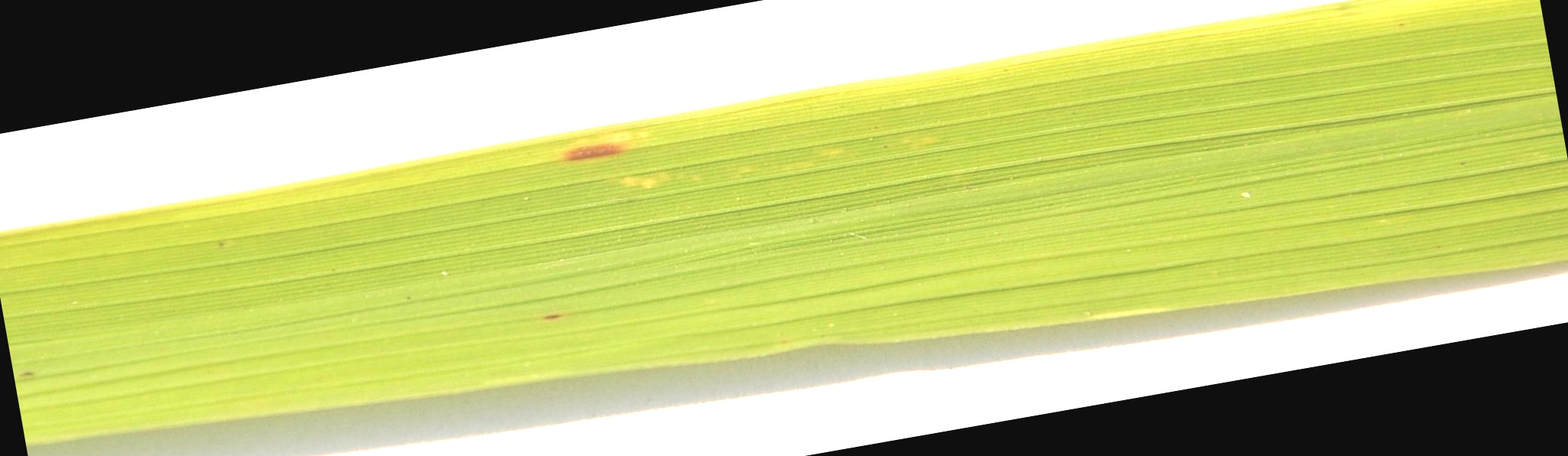Bacterial_Leaf_Blight: (522, 133, 658, 183)
